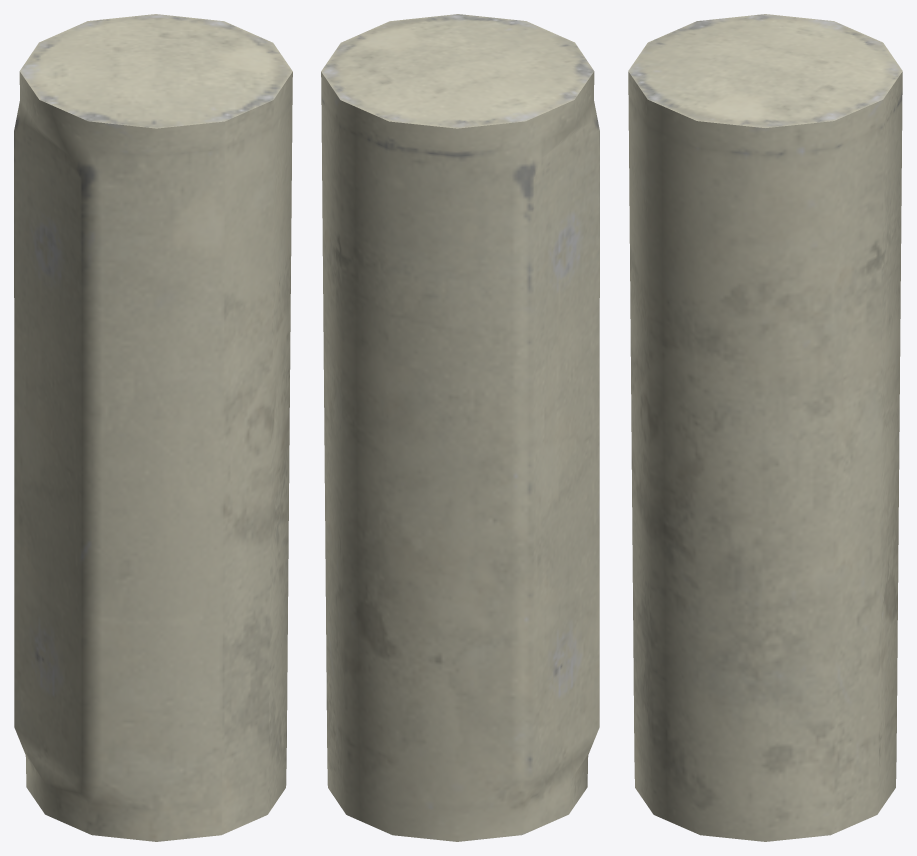
File: SM_Wall_Electrical_Wire_Casing_04a.fbx
The picture shows the model from 3 angles, left to right: view 1: azimuth 30°, elevation 25°; view 2: azimuth 150°, elevation 25°; view 3: azimuth 270°, elevation 25°; orthographic projection.
Visible parts, largest first — view 1: SM_Wall_Electrical_Wire_Casing_04a_LOD0; view 2: SM_Wall_Electrical_Wire_Casing_04a_LOD0; view 3: SM_Wall_Electrical_Wire_Casing_04a_LOD0.
Boxes of the visible parts, <box> form: SM_Wall_Electrical_Wire_Casing_04a_LOD0: <box>14,14,292,841</box>; SM_Wall_Electrical_Wire_Casing_04a_LOD0: <box>321,14,599,841</box>; SM_Wall_Electrical_Wire_Casing_04a_LOD0: <box>628,14,902,841</box>.
Size of the model in its own units: 2.5 by 2.54 by 7.41.
Materials: 1 (1 with a texture image).
